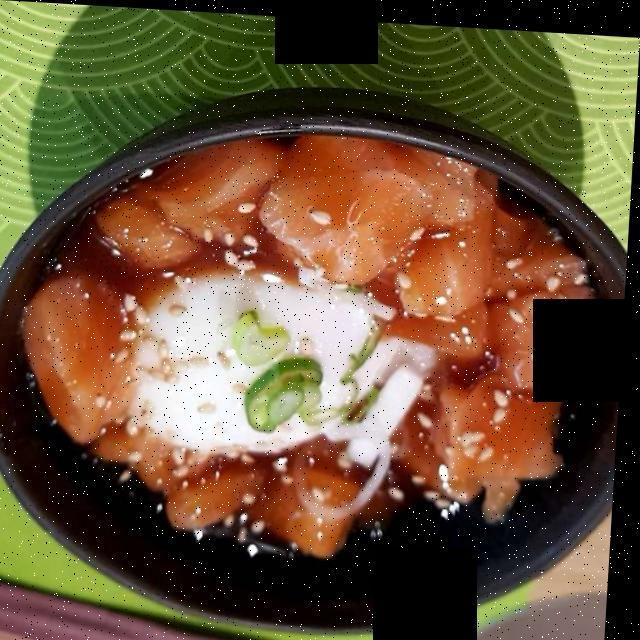egg: (131, 266, 401, 459)
salmon: (29, 136, 594, 551)
sauce: (67, 190, 554, 540)
